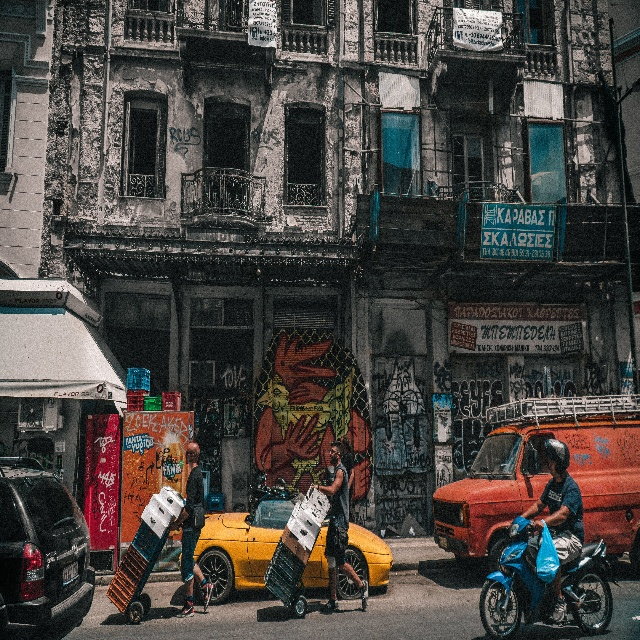Gafas: (186, 450, 195, 457), (330, 449, 338, 454)
Sin_guantes: (533, 519, 543, 533), (170, 521, 177, 532), (311, 483, 318, 493)
